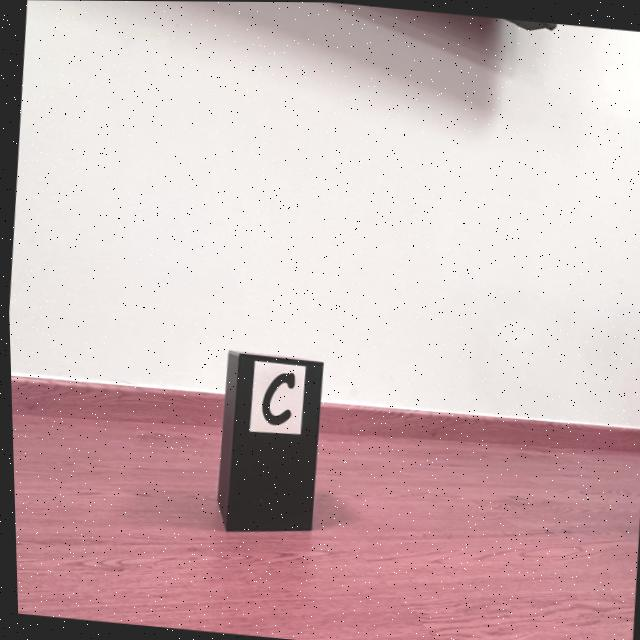C: (259, 372, 292, 425)
